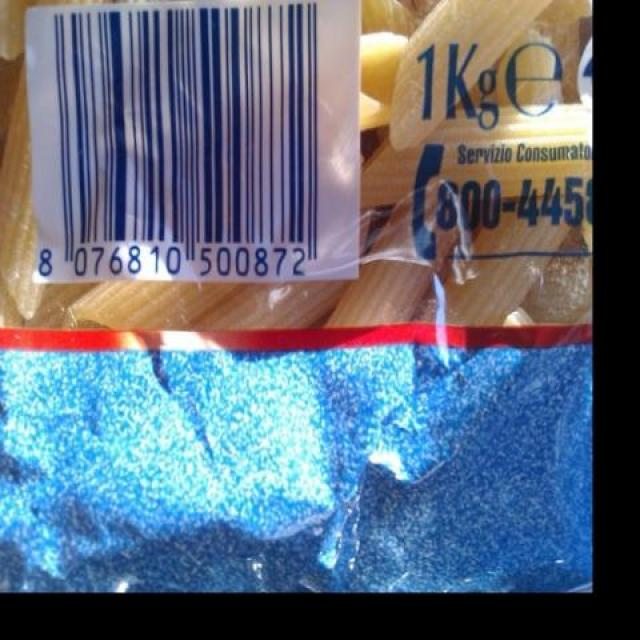Barcode: (24, 8, 363, 284)
